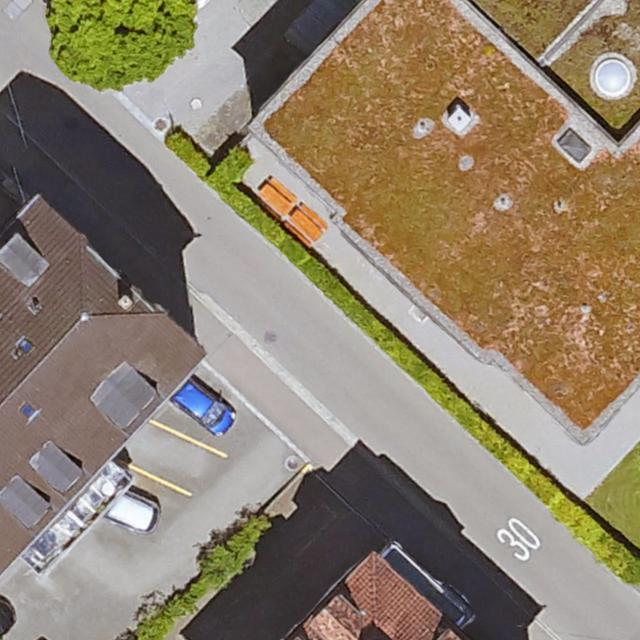tree: (46, 0, 197, 88)
